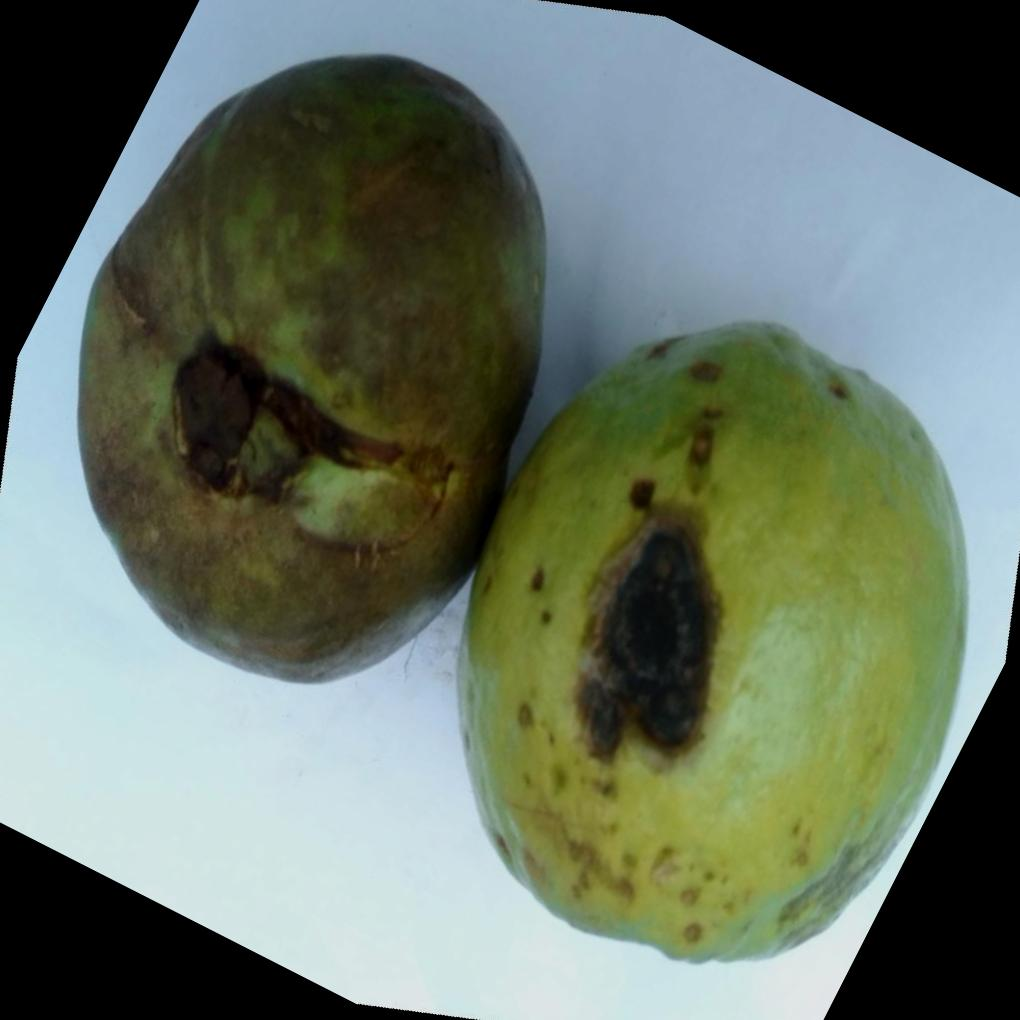FreshOrange: (72, 49, 966, 963)
